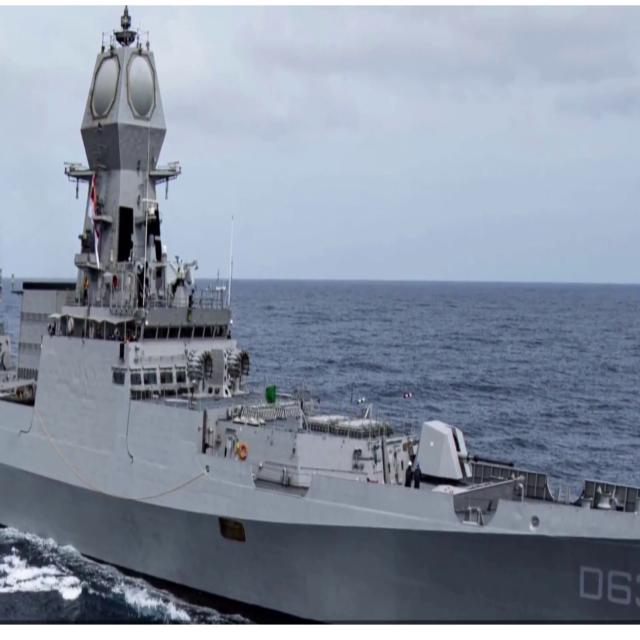OCR: (577, 562, 640, 610)
